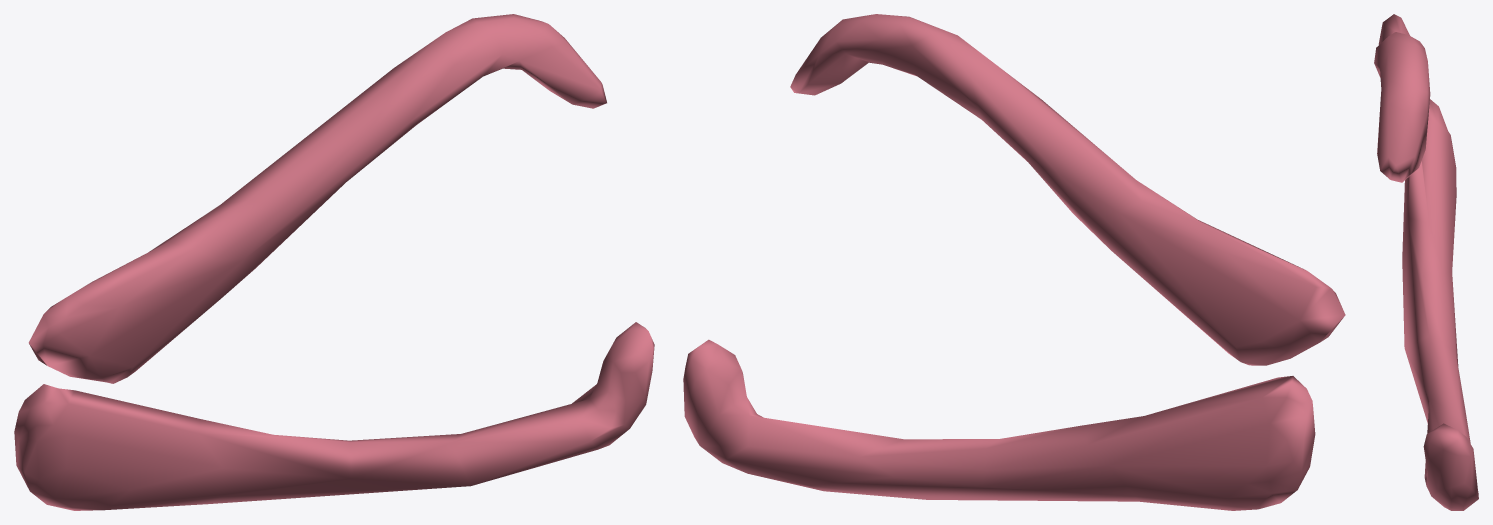
The model's file is Lacrimal_canaliculus_left.glb.
The picture shows the model from 3 angles, left to right: view 1: azimuth 30°, elevation 25°; view 2: azimuth 150°, elevation 25°; view 3: azimuth 270°, elevation 25°; orthographic projection. The views are drawn at different scales.
Parts seen in each view (by area): view 1: Lacrimal_canaliculus.l_grp1.076; view 2: Lacrimal_canaliculus.l_grp1.076; view 3: Lacrimal_canaliculus.l_grp1.076.
Boxes of the visible parts, <box> form: Lacrimal_canaliculus.l_grp1.076: <box>14,14,654,510</box>; Lacrimal_canaliculus.l_grp1.076: <box>683,14,1345,510</box>; Lacrimal_canaliculus.l_grp1.076: <box>1374,14,1478,510</box>.
Size of the model in its own units: 0.00706 by 0.00501 by 0.00116.
